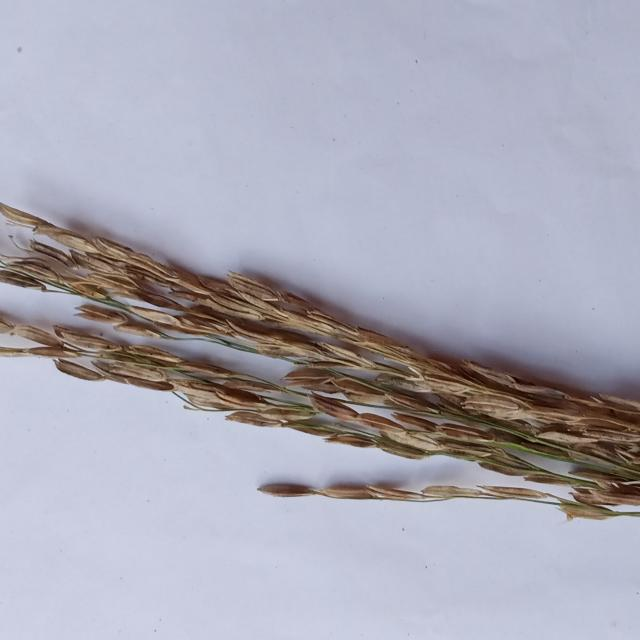Neck_Blast: (0, 205, 637, 460)
